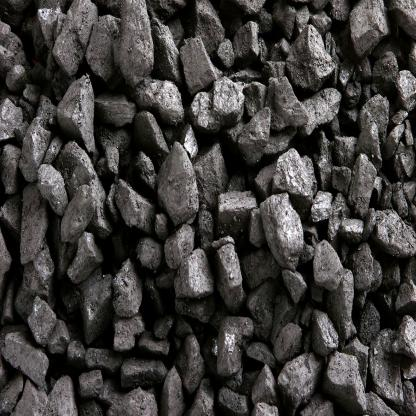Sedimentary_coal: (256, 186, 306, 274), (54, 181, 106, 258), (48, 2, 98, 76), (115, 3, 157, 82), (369, 203, 416, 273), (108, 246, 144, 336), (161, 143, 199, 226), (295, 80, 345, 141), (197, 72, 248, 131), (112, 166, 158, 231), (0, 334, 53, 390), (290, 22, 336, 84), (25, 294, 67, 361), (266, 74, 308, 141), (207, 230, 246, 302), (135, 76, 186, 130), (328, 342, 365, 416), (274, 145, 316, 206), (62, 69, 93, 151), (13, 120, 54, 182), (278, 347, 322, 403), (180, 38, 219, 91), (31, 163, 67, 220), (217, 174, 254, 227), (355, 102, 382, 167), (346, 6, 386, 48), (215, 322, 242, 383), (316, 231, 344, 288), (104, 387, 158, 416), (304, 181, 336, 229), (46, 370, 79, 416), (157, 367, 188, 415), (180, 338, 204, 391), (0, 141, 22, 193), (132, 150, 156, 191), (398, 62, 415, 111)
